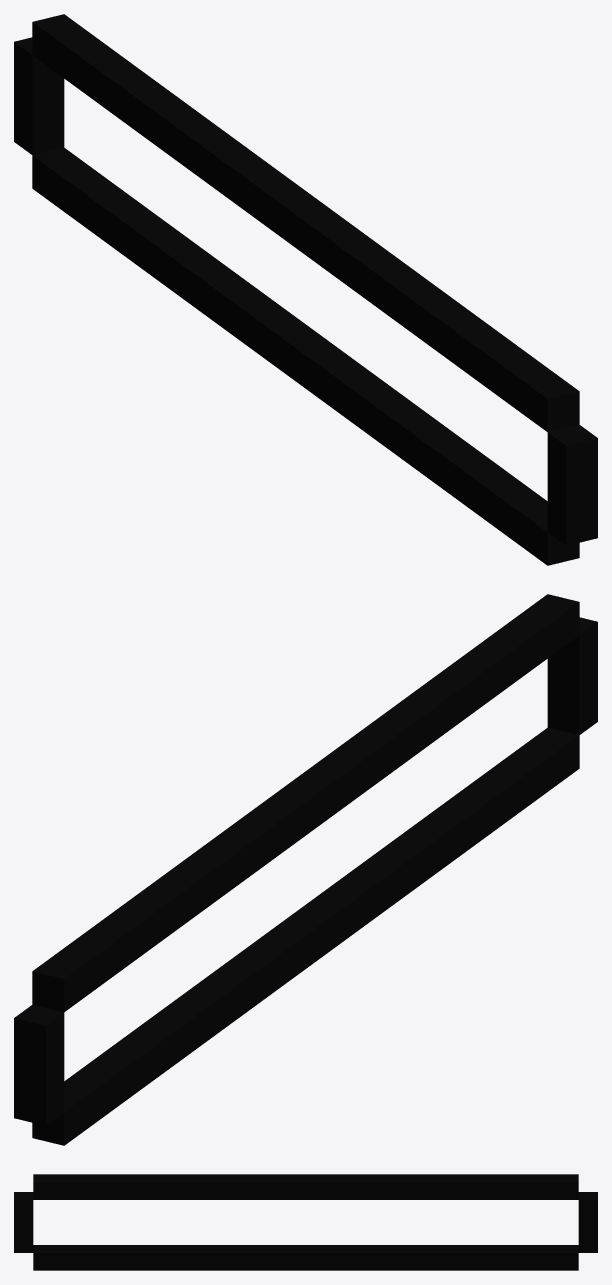
The model's file is ProgressBarBG.gltf.
3 renders of one model, top to bottom at view 1: azimuth 30°, elevation 25°; view 2: azimuth 150°, elevation 25°; view 3: azimuth 270°, elevation 25°, orthographic. The views are drawn at different scales.
Bounding box in the file's own units: 1 × 5 × 30.
1 material, 1 textured.
